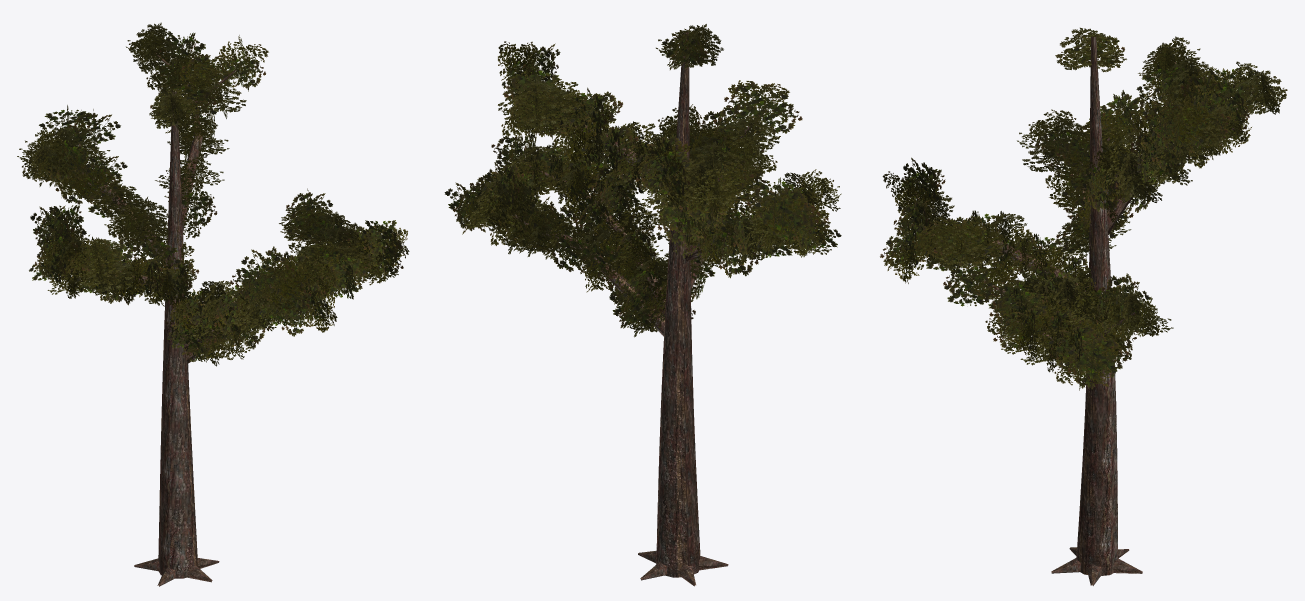
File: tree_3d_01_lod0.glb
The picture shows the model from 3 angles, left to right: view 1: azimuth 30°, elevation 25°; view 2: azimuth 150°, elevation 25°; view 3: azimuth 270°, elevation 25°; orthographic projection. The views are drawn at different scales.
Visible parts, largest first — view 1: foliage_cards, wood_geometry; view 2: foliage_cards, wood_geometry; view 3: foliage_cards, wood_geometry.
Boxes of the visible parts, box(x1,y1,x2,y2) form: foliage_cards: box(17, 22, 409, 366); wood_geometry: box(70, 53, 388, 586); foliage_cards: box(444, 24, 841, 337); wood_geometry: box(512, 31, 807, 586); foliage_cards: box(880, 27, 1287, 390); wood_geometry: box(915, 36, 1240, 585).
Bounding box in the file's own units: 7.11 × 9.14 × 6.44.
2 materials, 2 textured.
